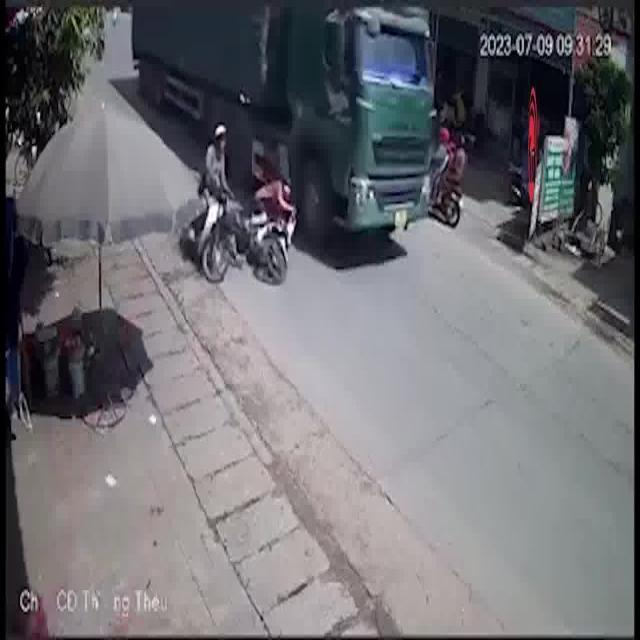multiple_accident: (171, 63, 350, 294)
